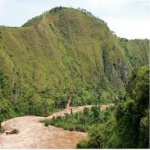River: (1, 94, 118, 149)
Uncultivated: (1, 28, 102, 97)
